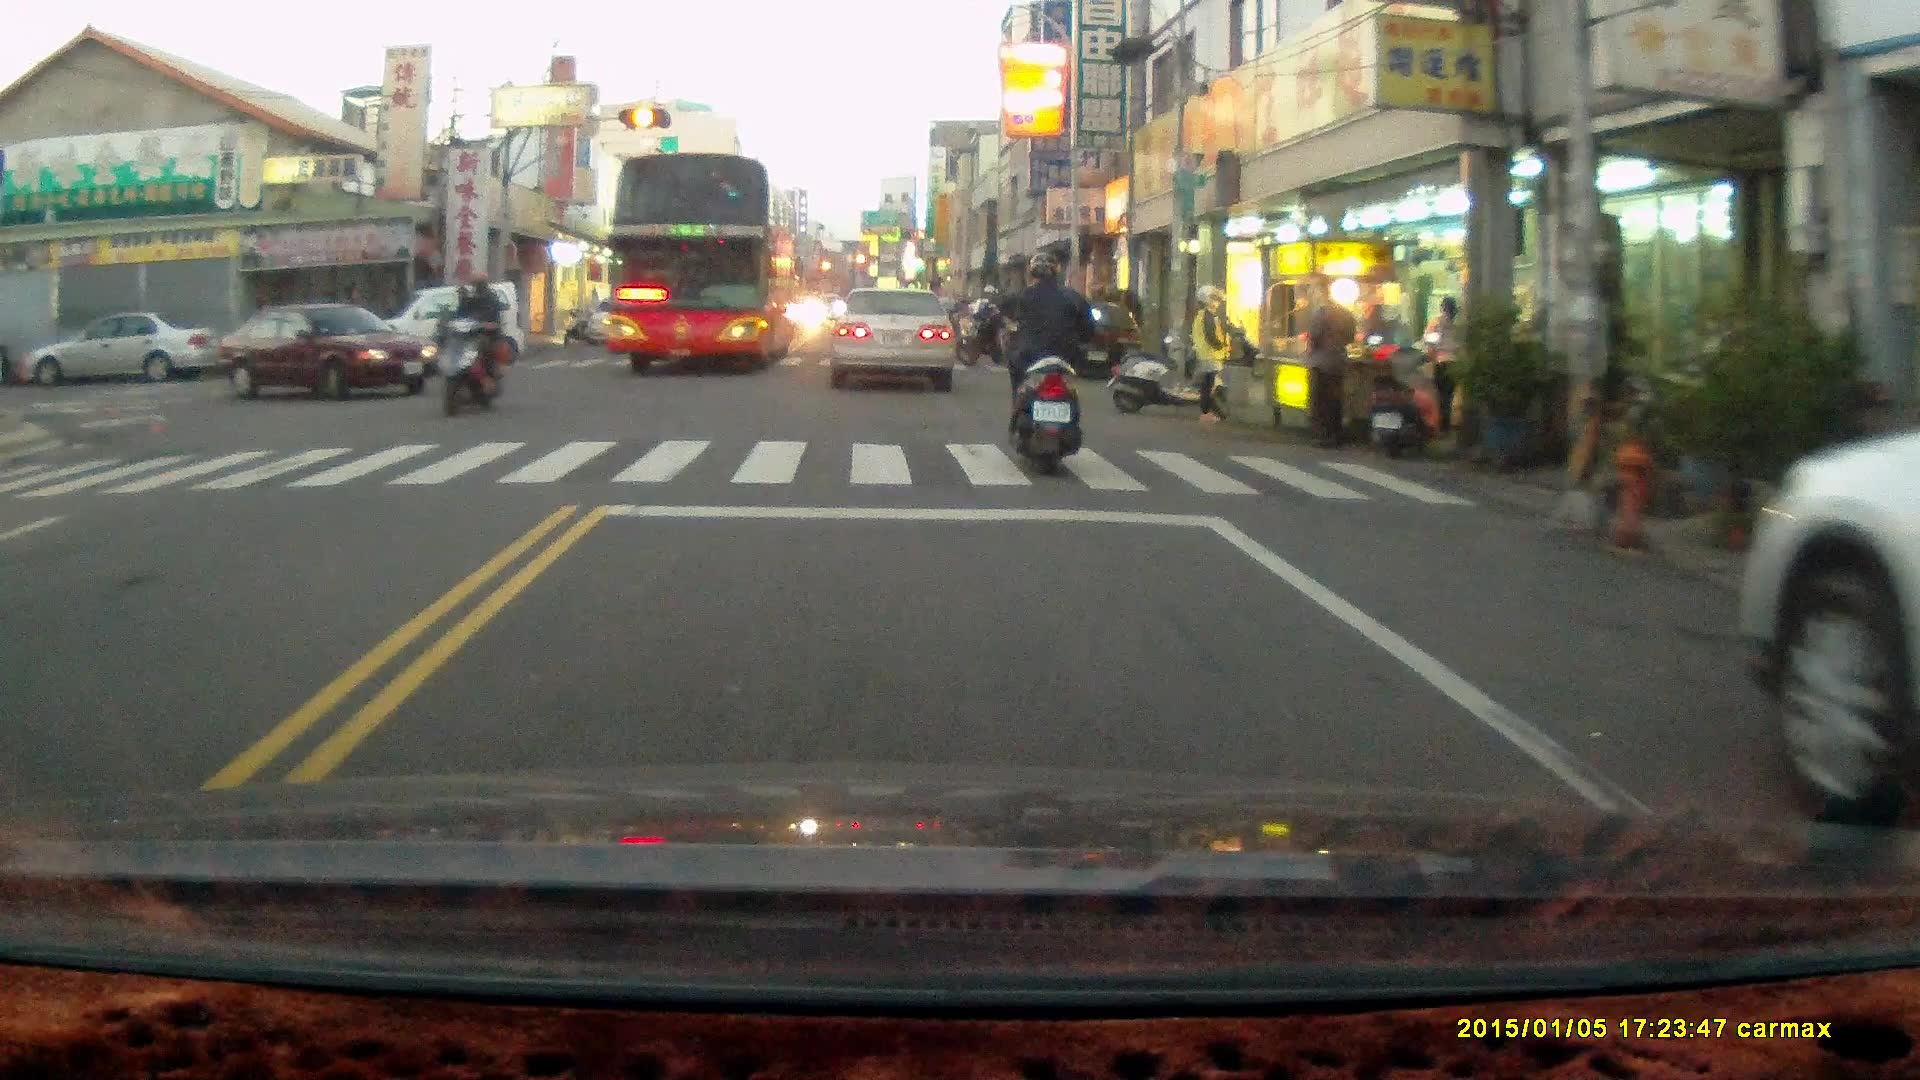pedestrian: (1303, 269, 1356, 449), (1187, 280, 1229, 424), (1421, 296, 1464, 438)
rider: (994, 242, 1103, 474), (435, 268, 505, 415), (954, 282, 1018, 366)
vehicle: (1727, 381, 1920, 842), (608, 155, 796, 380), (221, 302, 437, 400), (22, 311, 203, 389), (830, 288, 961, 392), (374, 283, 529, 371), (1046, 296, 1149, 378), (588, 293, 665, 351)
